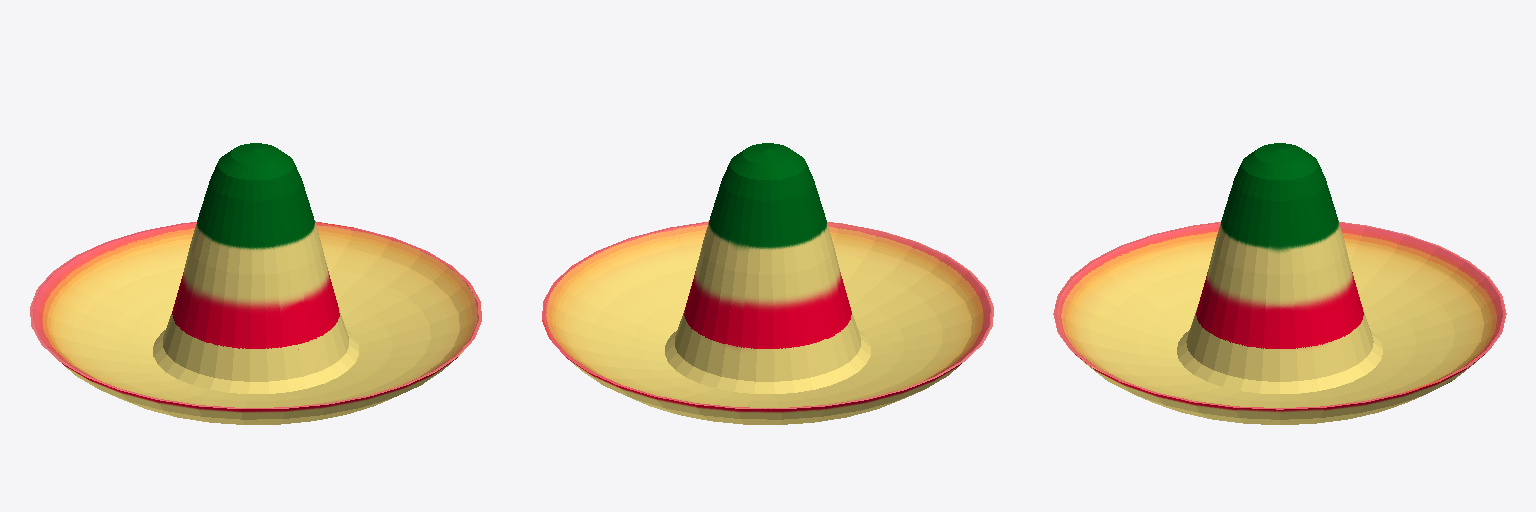
3 views of the same model, side by side, from view 1: azimuth 30°, elevation 25°; view 2: azimuth 150°, elevation 25°; view 3: azimuth 270°, elevation 25° (orthographic).
Parts seen in each view (by area): view 1: Sphere; view 2: Sphere; view 3: Sphere.
Part boxes in pixels (x1,y1,x2,y2): Sphere: (30,143,481,424); Sphere: (542,143,993,424); Sphere: (1053,143,1506,424).
Size of the model in its own units: 238 by 124 by 238.
Materials: 1 (1 with a texture image).